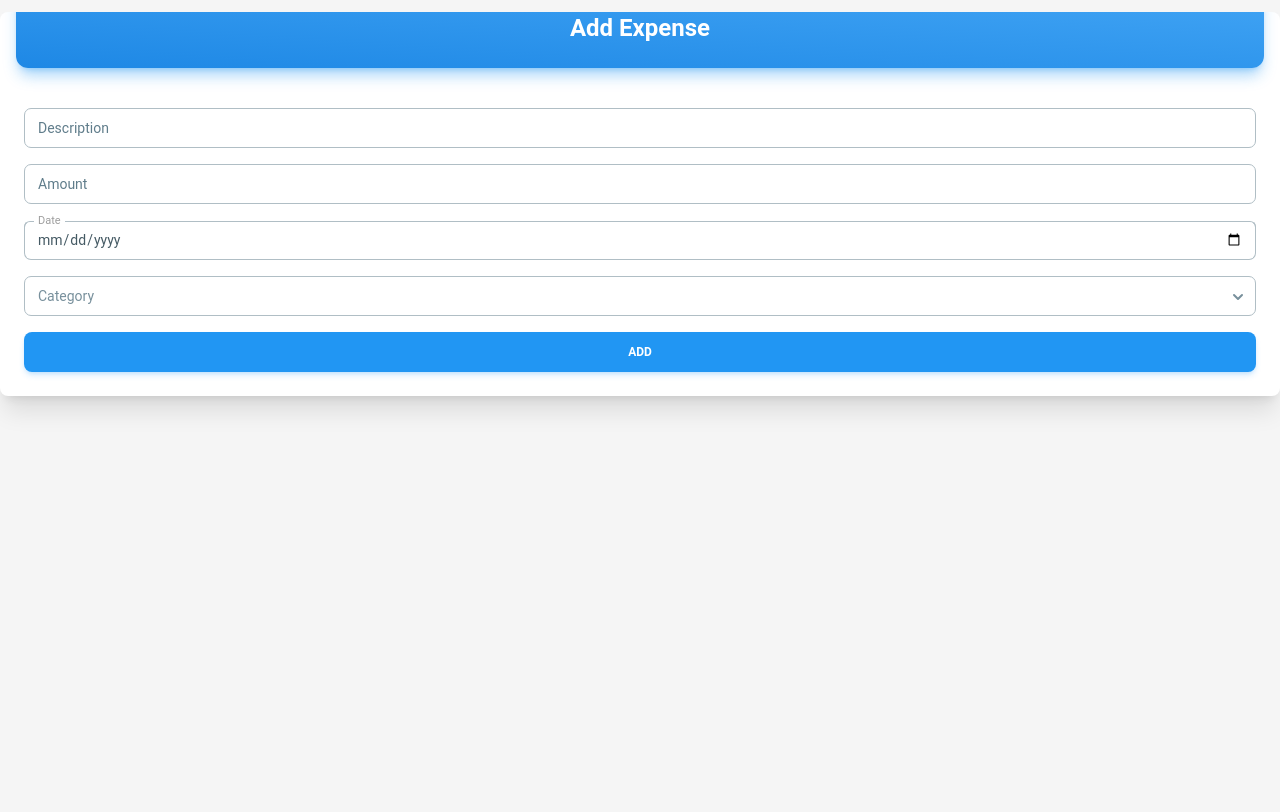
Test: ExpenseForm › shows validation error for zero amount
This screenshot has width=1280, height=812.
Type "0" into the number field with test id "expense-amount-input" at {"x": 640, "y": 184}, box [24,164,1256,204]
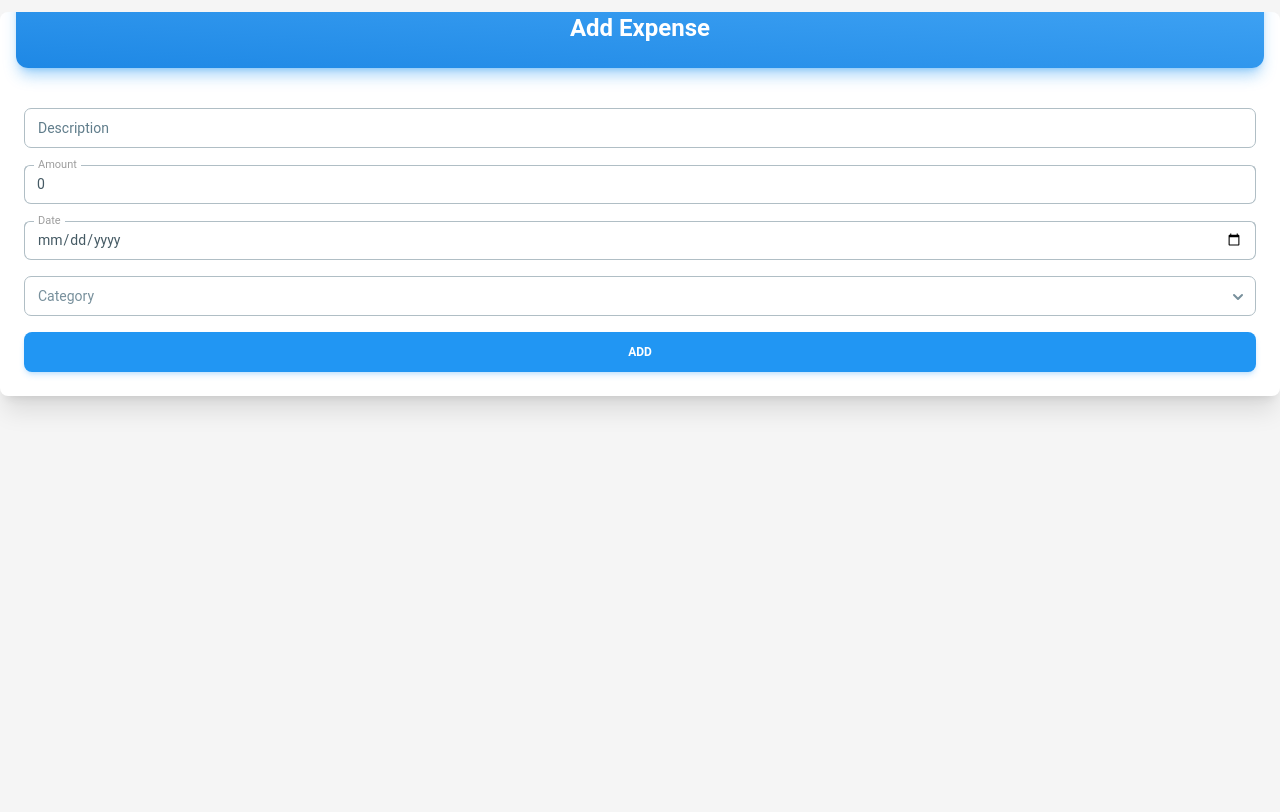
Click the button "Add" at {"x": 640, "y": 352}, box [24,332,1256,372]
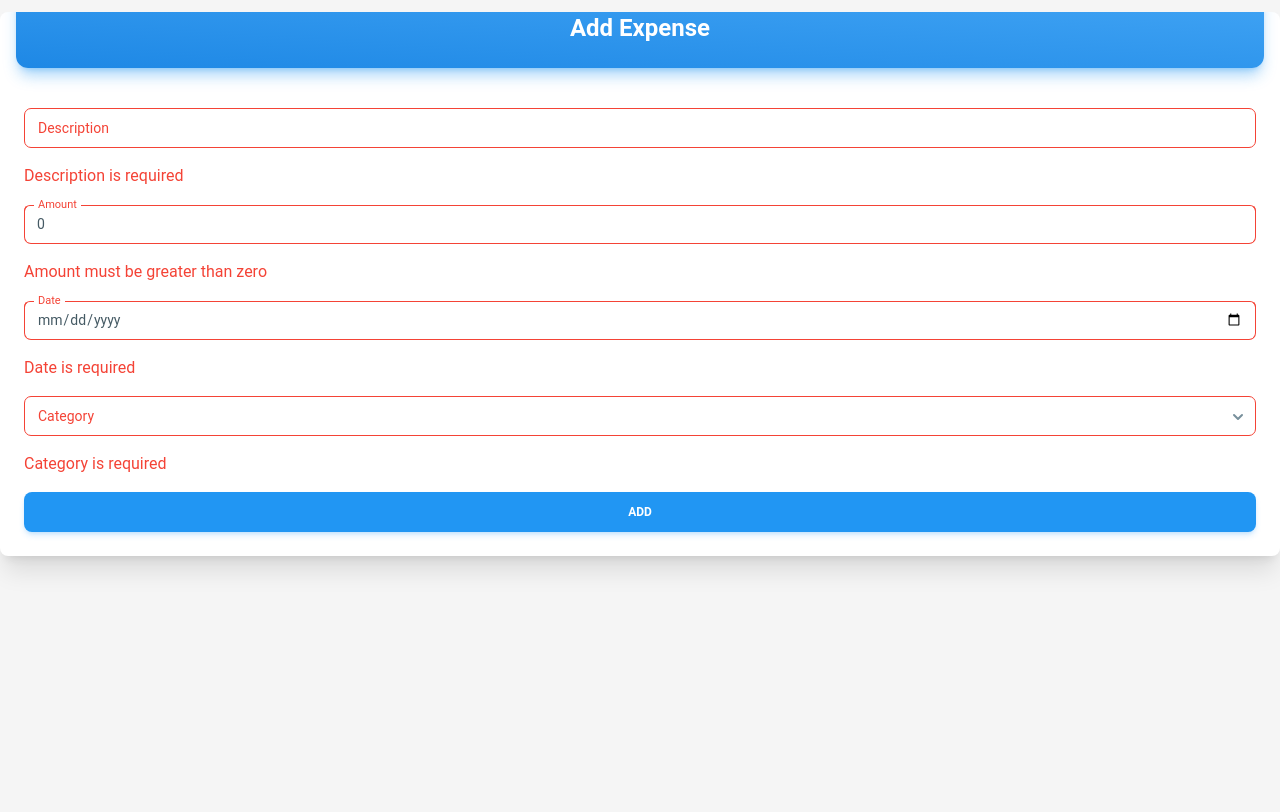
expect the text "Amount must be greater than zero" is shown: met, box [24,262,267,281]
